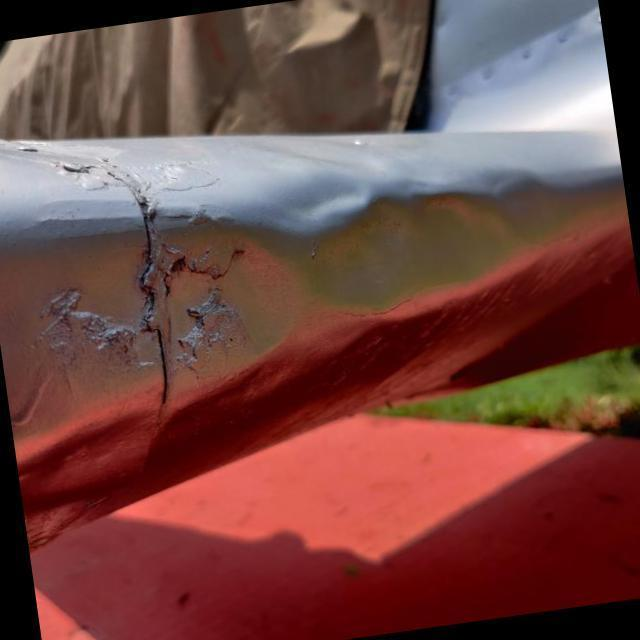Dent: (283, 151, 556, 344)
